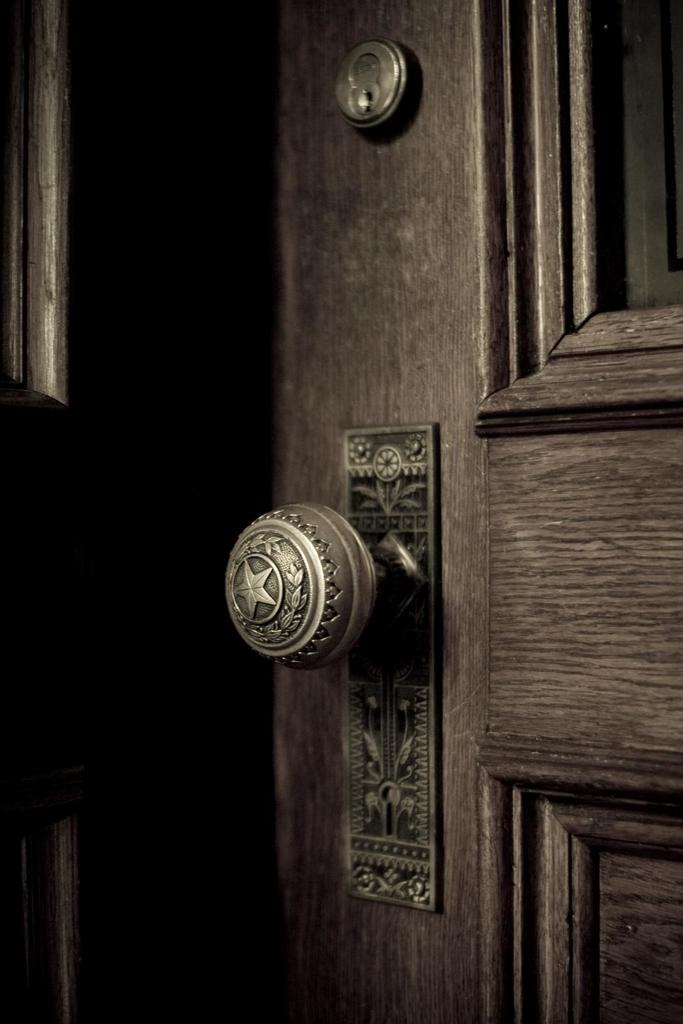door: (224, 55, 683, 1021)
handle: (216, 476, 378, 684)
